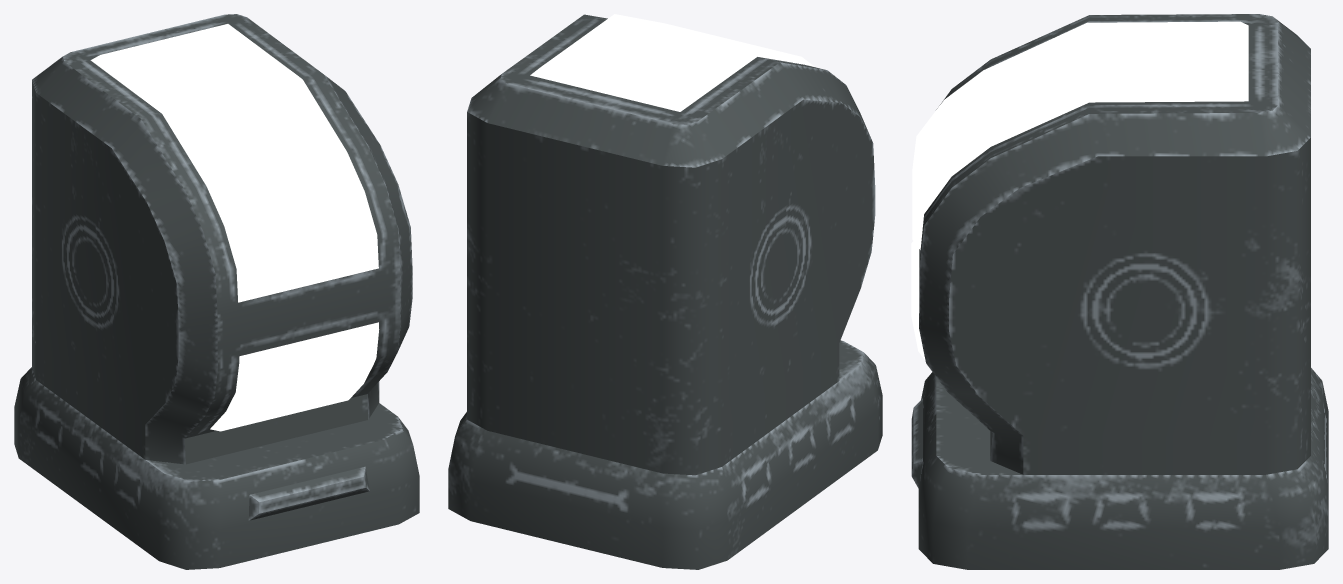
Rendered from scifi_light_14.glb.
The picture shows the model from 3 angles, left to right: view 1: azimuth 30°, elevation 25°; view 2: azimuth 150°, elevation 25°; view 3: azimuth 270°, elevation 25°; orthographic projection. The views are drawn at different scales.
Visible parts, largest first — view 1: Light_14_Material #39_0, Light_14_Material #38_0; view 2: Light_14_Material #39_0, Light_14_Material #38_0; view 3: Light_14_Material #39_0, Light_14_Material #38_0.
Part boxes in pixels (x1,y1,x2,y2): Light_14_Material #39_0: (14,14,419,569); Light_14_Material #38_0: (90,24,379,431); Light_14_Material #39_0: (448,14,882,569); Light_14_Material #38_0: (530,14,814,111); Light_14_Material #39_0: (911,14,1328,569); Light_14_Material #38_0: (911,21,1248,360).
Bounding box in the file's own units: 20 × 29.91 × 25.45.
2 materials, 1 textured.
